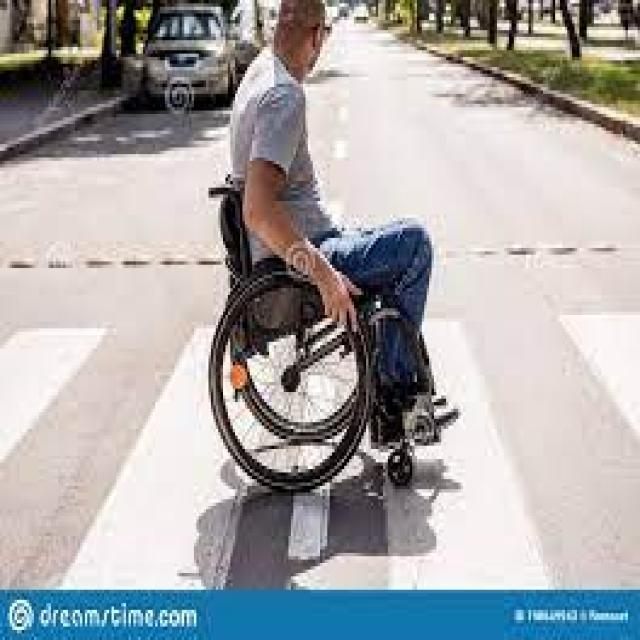wheelchairs: (179, 178, 468, 520)
